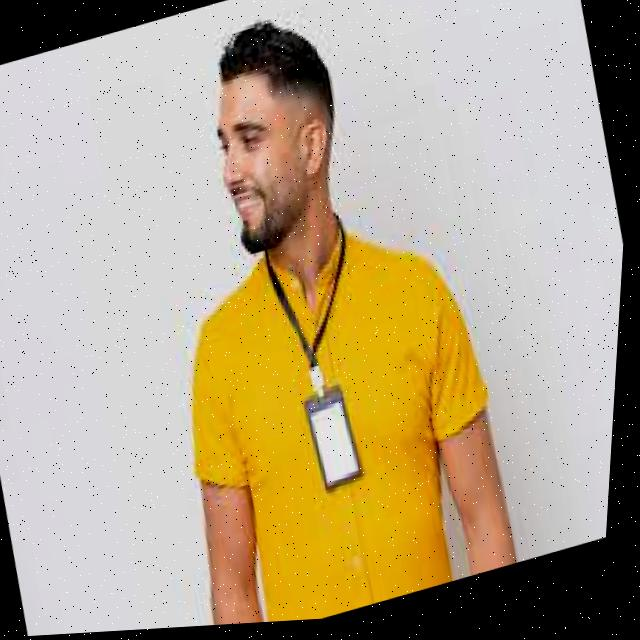id_card: (250, 236, 405, 520)
